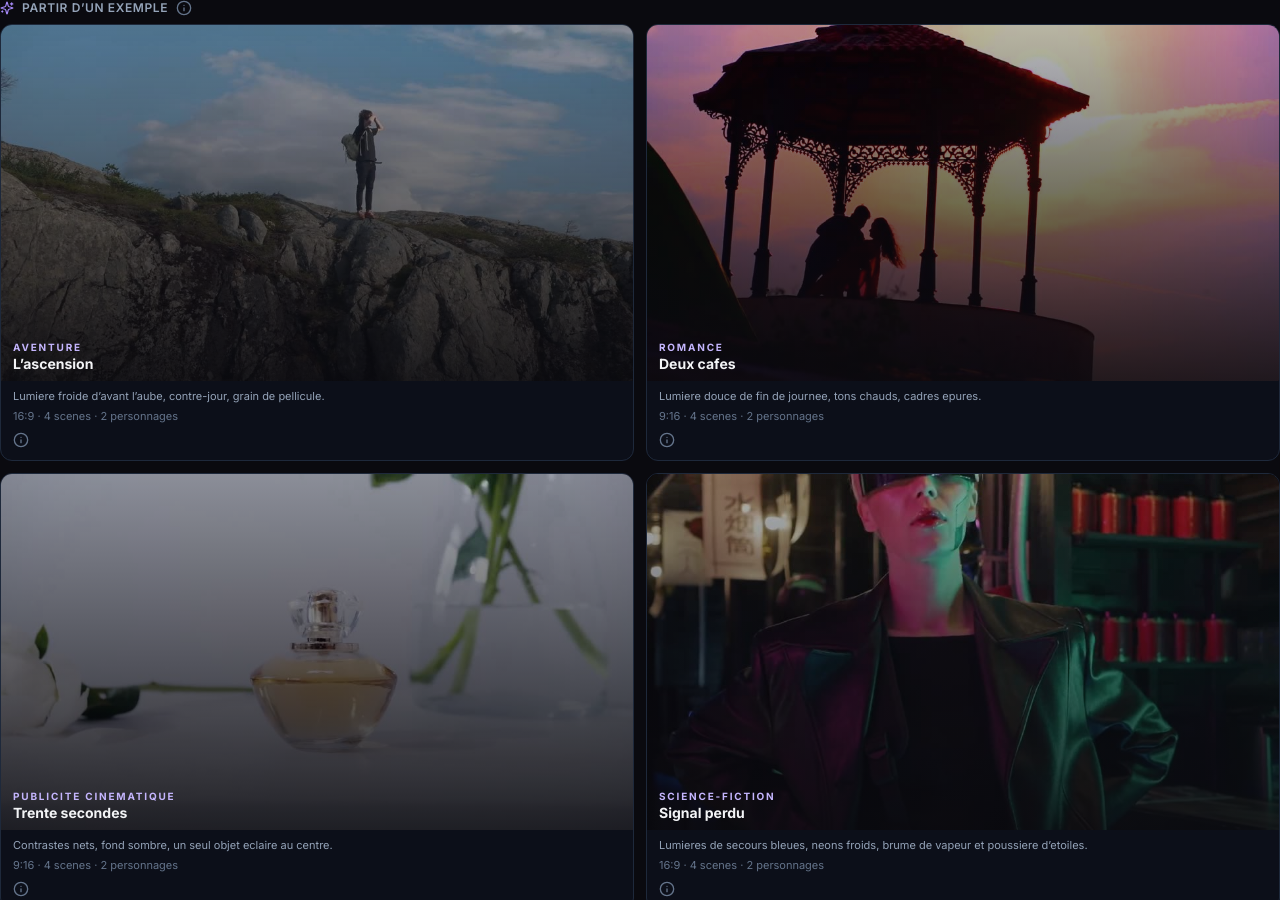
Scenario: un modele n’ecrase jamais une saisie sans confirmation › annuler laisse la saisie intacte
What coordinates should you click on to do the following:
click the button with aria-label "Utiliser l’exemple Trente secondes"
I would click on:
 (317, 678)
Its box is x1=1 y1=474 x2=633 y2=881.
(page scrolled)
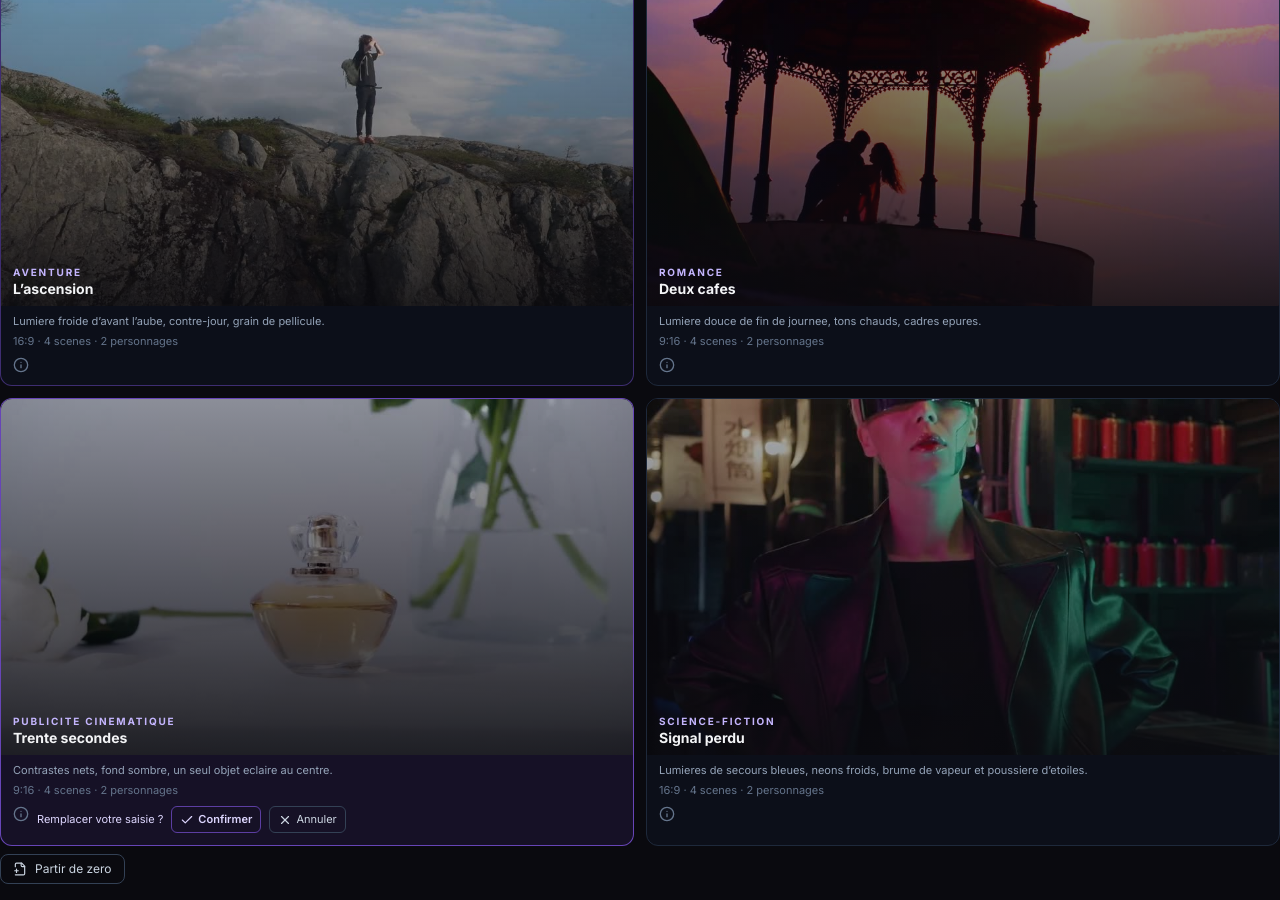
What coordinates should you click on to do the following:
click the button with aria-label "Annuler le remplacement"
I would click on:
 (308, 820)
Its box is x1=269 y1=806 x2=346 y2=833.
(page scrolled)
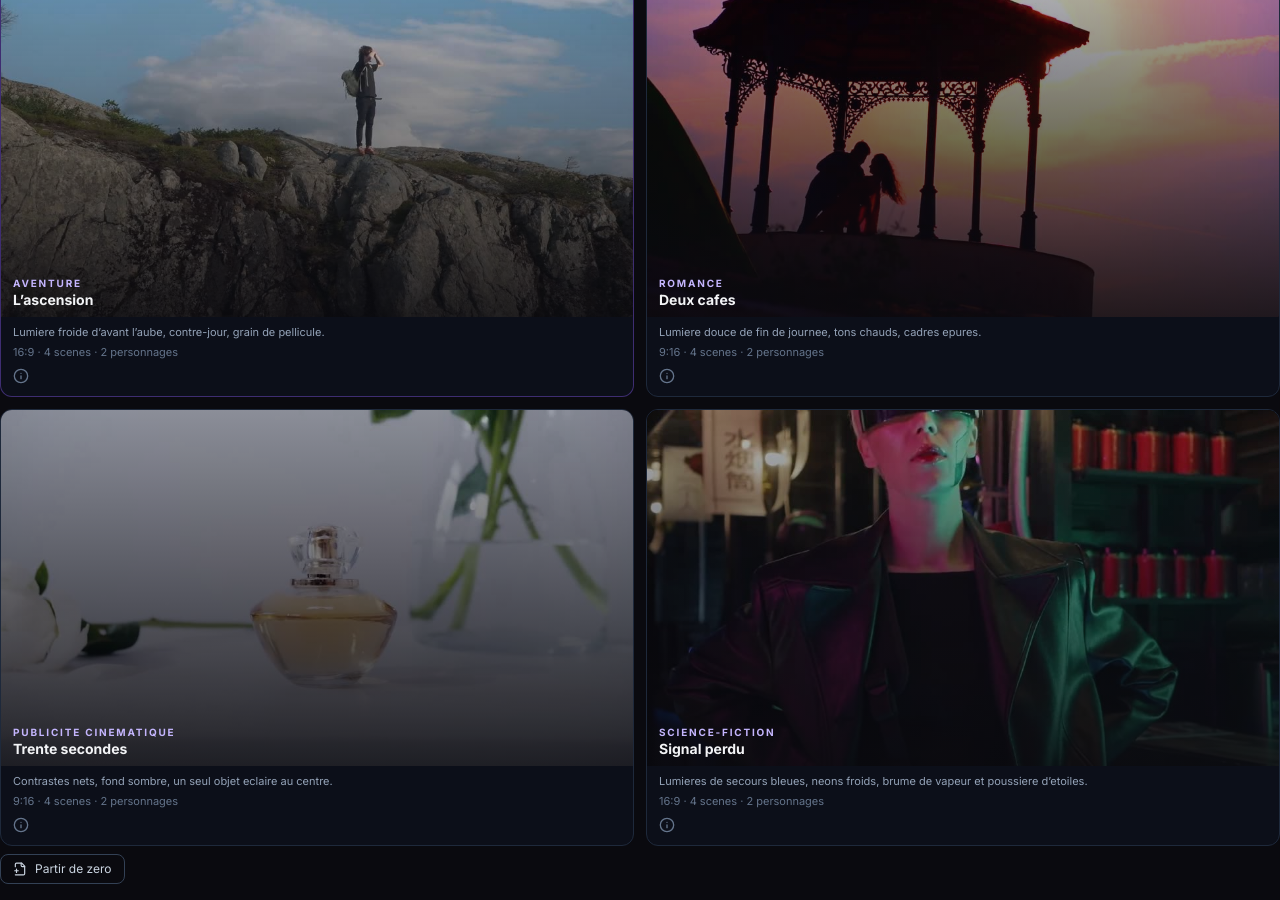
Expected: the text "Remplacer votre saisie" is gone
